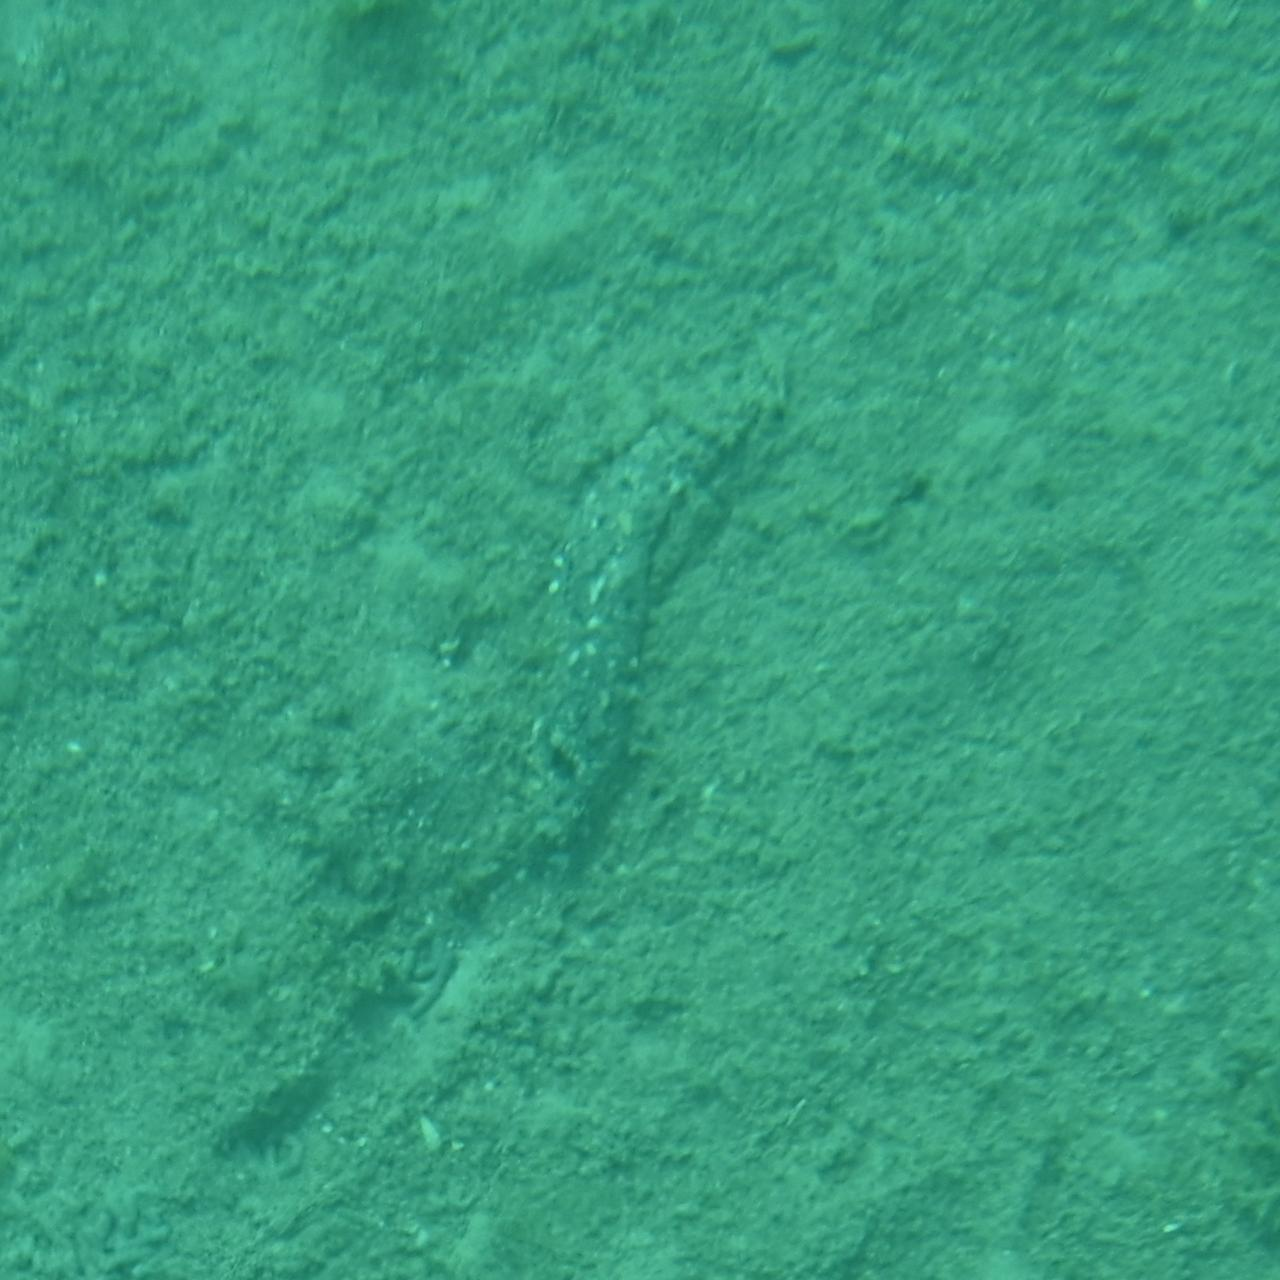Holothuria tubulosa: (492, 378, 788, 902)
